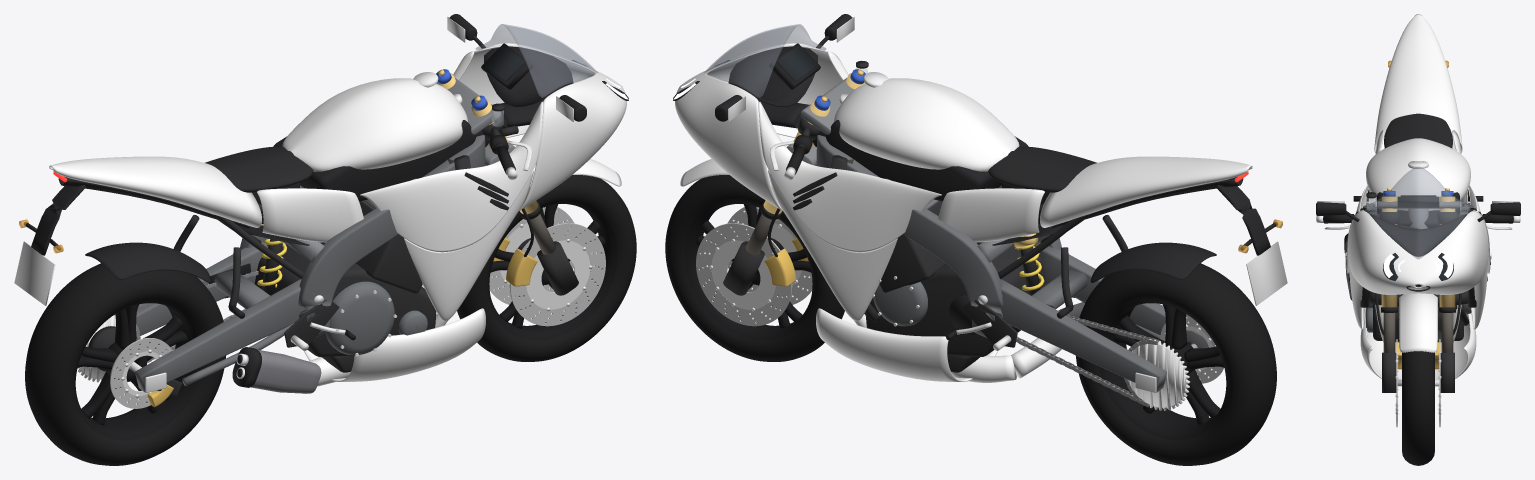
The model's file is bike-draco.glb.
3 renders of one model, left to right at view 1: azimuth 30°, elevation 25°; view 2: azimuth 150°, elevation 25°; view 3: azimuth 270°, elevation 25°, orthographic. The views are drawn at different scales.
Visible parts, largest first — view 1: RearWheel_Tire, FuelTank, Fairing_Side_R, FrontWheel_Tire, Fairing_Nose, TailCowl, Swingarm_R, FrameSpar_R, BellyPan, SideCover_R, Fairing_Rower_R, Engine_ClutchCover (+31 smaller); view 2: RearWheel_Tire, FuelTank, Fairing_Side_L, FrontWheel_Tire, Fairing_Nose, TailCowl, BellyPan, Swingarm_L, FrameSpar_L, Engine_Crankcase, SideCover_L, Fairing_Lower_L (+31 smaller); view 3: Fairing_Nose, TailCowl, Windscreen, FuelTank, FrontWheel_Tire, FrontFender, BellyPan, Seat, InnerCowl, Fork_AxleClamp_L, Fork_AxleClamp_R, Engine_Crankcase (+17 smaller).
Part boxes in pixels (<box>): RearWheel_Tire: <box>25,263,226,465</box>; FuelTank: <box>282,78,467,171</box>; Fairing_Side_R: <box>360,101,543,252</box>; FrontWheel_Tire: <box>457,175,636,361</box>; Fairing_Nose: <box>459,45,626,210</box>; TailCowl: <box>49,156,261,227</box>; Swingarm_R: <box>135,279,305,392</box>; FrameSpar_R: <box>298,135,485,337</box>; BellyPan: <box>304,308,485,381</box>; SideCover_R: <box>257,188,363,242</box>; Fairing_Rower_R: <box>404,170,533,321</box>; Engine_ClutchCover: <box>325,281,394,354</box>; RearWheel_Tire: <box>1075,263,1276,465</box>; FuelTank: <box>834,78,1019,171</box>; Fairing_Side_L: <box>758,101,941,252</box>; FrontWheel_Tire: <box>665,175,844,361</box>; Fairing_Nose: <box>675,45,842,210</box>; TailCowl: <box>1040,156,1252,227</box>; BellyPan: <box>816,308,997,381</box>; Swingarm_L: <box>1000,279,1166,392</box>; FrameSpar_L: <box>816,135,1003,337</box>; Engine_Crankcase: <box>865,244,1047,356</box>; SideCover_L: <box>938,188,1044,242</box>; Fairing_Lower_L: <box>768,170,897,321</box>; Fairing_Nose: <box>1348,211,1488,294</box>; TailCowl: <box>1374,14,1462,152</box>; Windscreen: <box>1366,167,1470,258</box>; FuelTank: <box>1366,138,1470,210</box>; FrontWheel_Tire: <box>1402,351,1434,465</box>; FrontFender: <box>1399,293,1437,352</box>; BellyPan: <box>1360,311,1476,379</box>; Seat: <box>1384,113,1452,148</box>; InnerCowl: <box>1370,214,1466,256</box>; Fork_AxleClamp_L: <box>1440,352,1454,392</box>; Fork_AxleClamp_R: <box>1382,352,1396,392</box>; Engine_Crankcase: <box>1373,304,1463,340</box>.
Bounding box in the file's own units: 2.03 × 1.1 × 0.7418.
